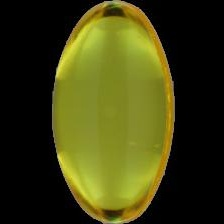66116-513: (0, 0, 224, 224)
